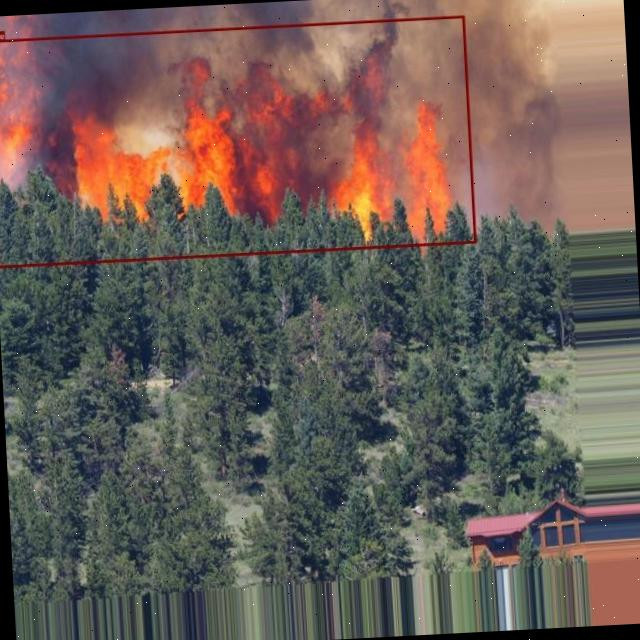fire: (0, 14, 475, 268)
